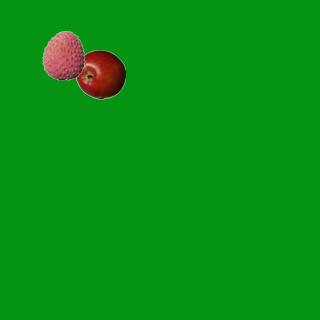Apple Braeburn: (75, 49, 125, 99)
Lychee: (38, 30, 88, 80)
